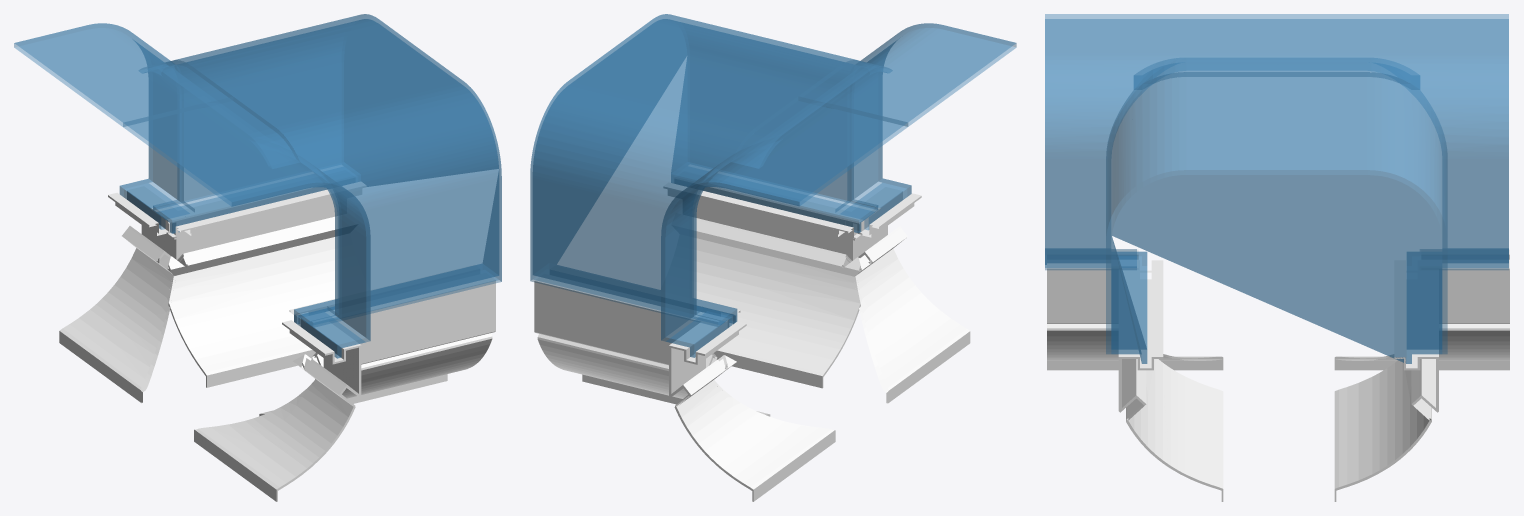
The model's file is Modulseingang.fbx.
The picture shows the model from 3 angles, left to right: view 1: azimuth 30°, elevation 25°; view 2: azimuth 150°, elevation 25°; view 3: azimuth 270°, elevation 25°; orthographic projection. The views are drawn at different scales.
Parts seen in each view (by area): view 1: Group1, skp88C1_1; view 2: Group1, skp88C1_1; view 3: Group1, skp88C1_1.
Part boxes in pixels (x1,y1,x2,y2): Group1: [14, 14, 501, 358]; skp88C1_1: [59, 181, 495, 501]; Group1: [530, 14, 1016, 357]; skp88C1_1: [534, 182, 970, 501]; Group1: [1045, 14, 1508, 363]; skp88C1_1: [1047, 249, 1509, 501].
Size of the model in its own units: 412 by 411 by 521.
